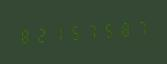eight: (17, 24, 32, 47), (113, 17, 128, 40)
five: (65, 21, 80, 44), (97, 19, 112, 41)
one: (49, 22, 64, 45)
seven: (81, 20, 96, 43), (129, 16, 144, 39)
two: (33, 23, 48, 46)
